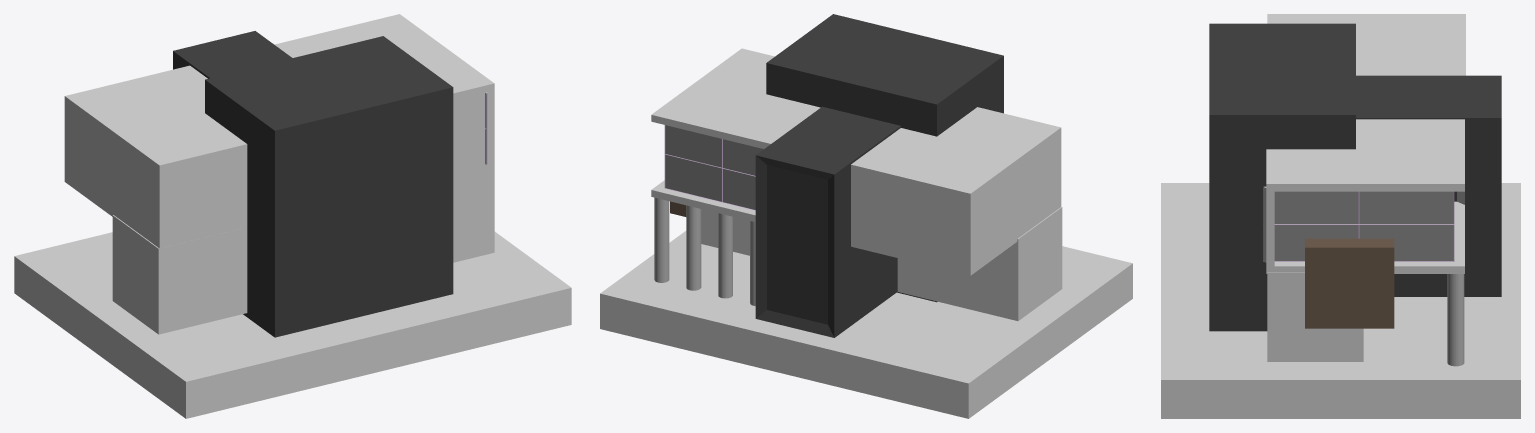
The model's file is ExportedBlenderFBXFile.fbx.
The picture shows the model from 3 angles, left to right: view 1: azimuth 30°, elevation 25°; view 2: azimuth 150°, elevation 25°; view 3: azimuth 270°, elevation 25°; orthographic projection. The views are drawn at different scales.
Parts seen in each view (by area): view 1: Cube.002, Plane.001, Cube.003, Cube, Cube.001; view 2: Cube.002, Plane.001, Cube.003, Cube.001, Cube.005, Cube.004, Cylinder, Cube; view 3: Cube.002, Plane.001, Cube.001, Cube.004, Plane, Cube.003, Cube, Cylinder.
Part boxes in pixels (x1,y1,x2,y2): Cube.002: (173,31,453,337); Plane.001: (14,231,571,418); Cube.003: (64,65,247,248); Cube: (112,169,494,334); Cube.001: (274,14,494,179); Cube.002: (755,14,1003,337); Plane.001: (600,231,1132,418); Cube.003: (851,107,1061,275); Cube.001: (651,48,820,222); Cube.005: (701,209,1018,320); Cube.004: (664,125,763,210); Cylinder: (654,197,755,305); Cube: (1018,207,1062,320); Cube.002: (1209,23,1501,331); Plane.001: (1161,183,1520,418); Cube.001: (1264,119,1464,273); Cube.004: (1263,186,1454,261); Plane: (1305,238,1394,328); Cube.003: (1267,14,1465,75); Cube: (1267,272,1363,361); Cylinder: (1447,274,1464,366).
Size of the model in its own units: 10.43 by 6.3 by 8.05.
